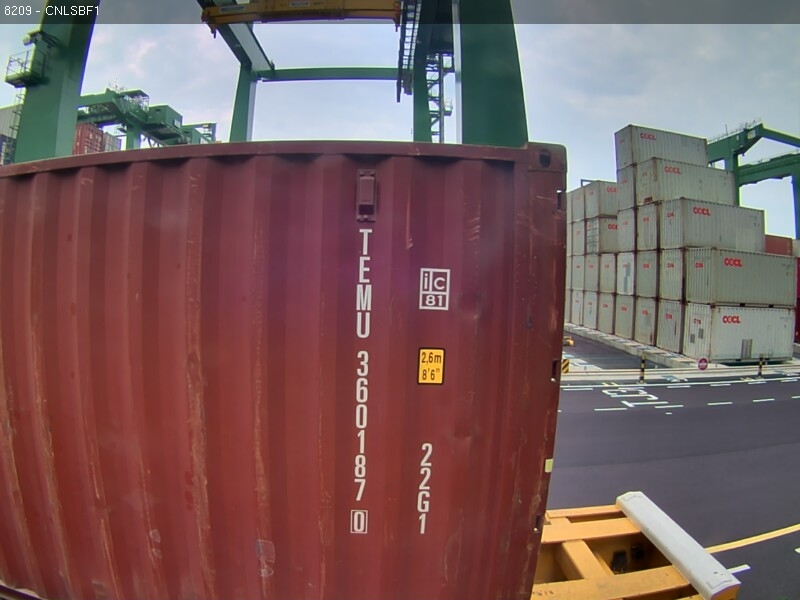container_no_door: (63, 141, 570, 585)
